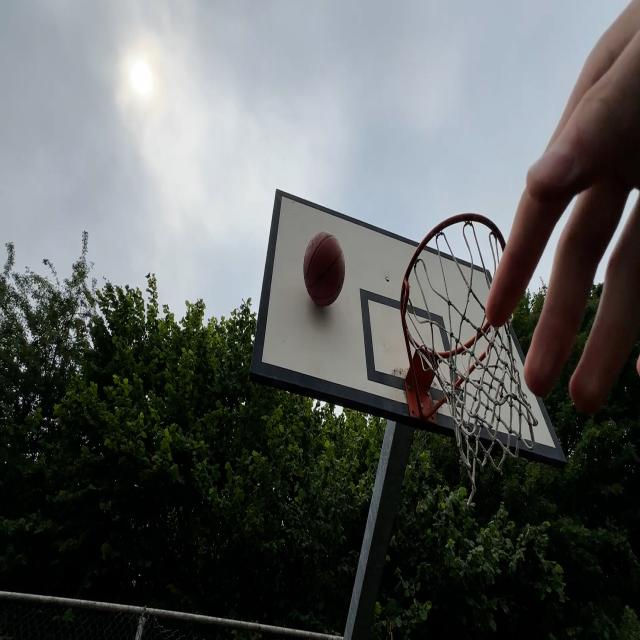Basketball: (304, 230, 345, 312), (305, 230, 349, 306)
